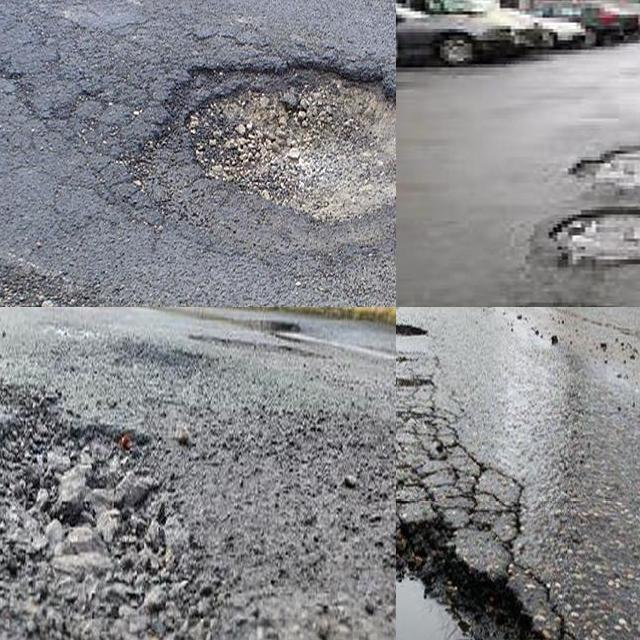Lubang: (0, 399, 226, 640), (152, 72, 396, 242), (396, 531, 525, 640), (547, 206, 640, 270), (562, 147, 640, 191)
Retak Buaya: (396, 375, 548, 640)
